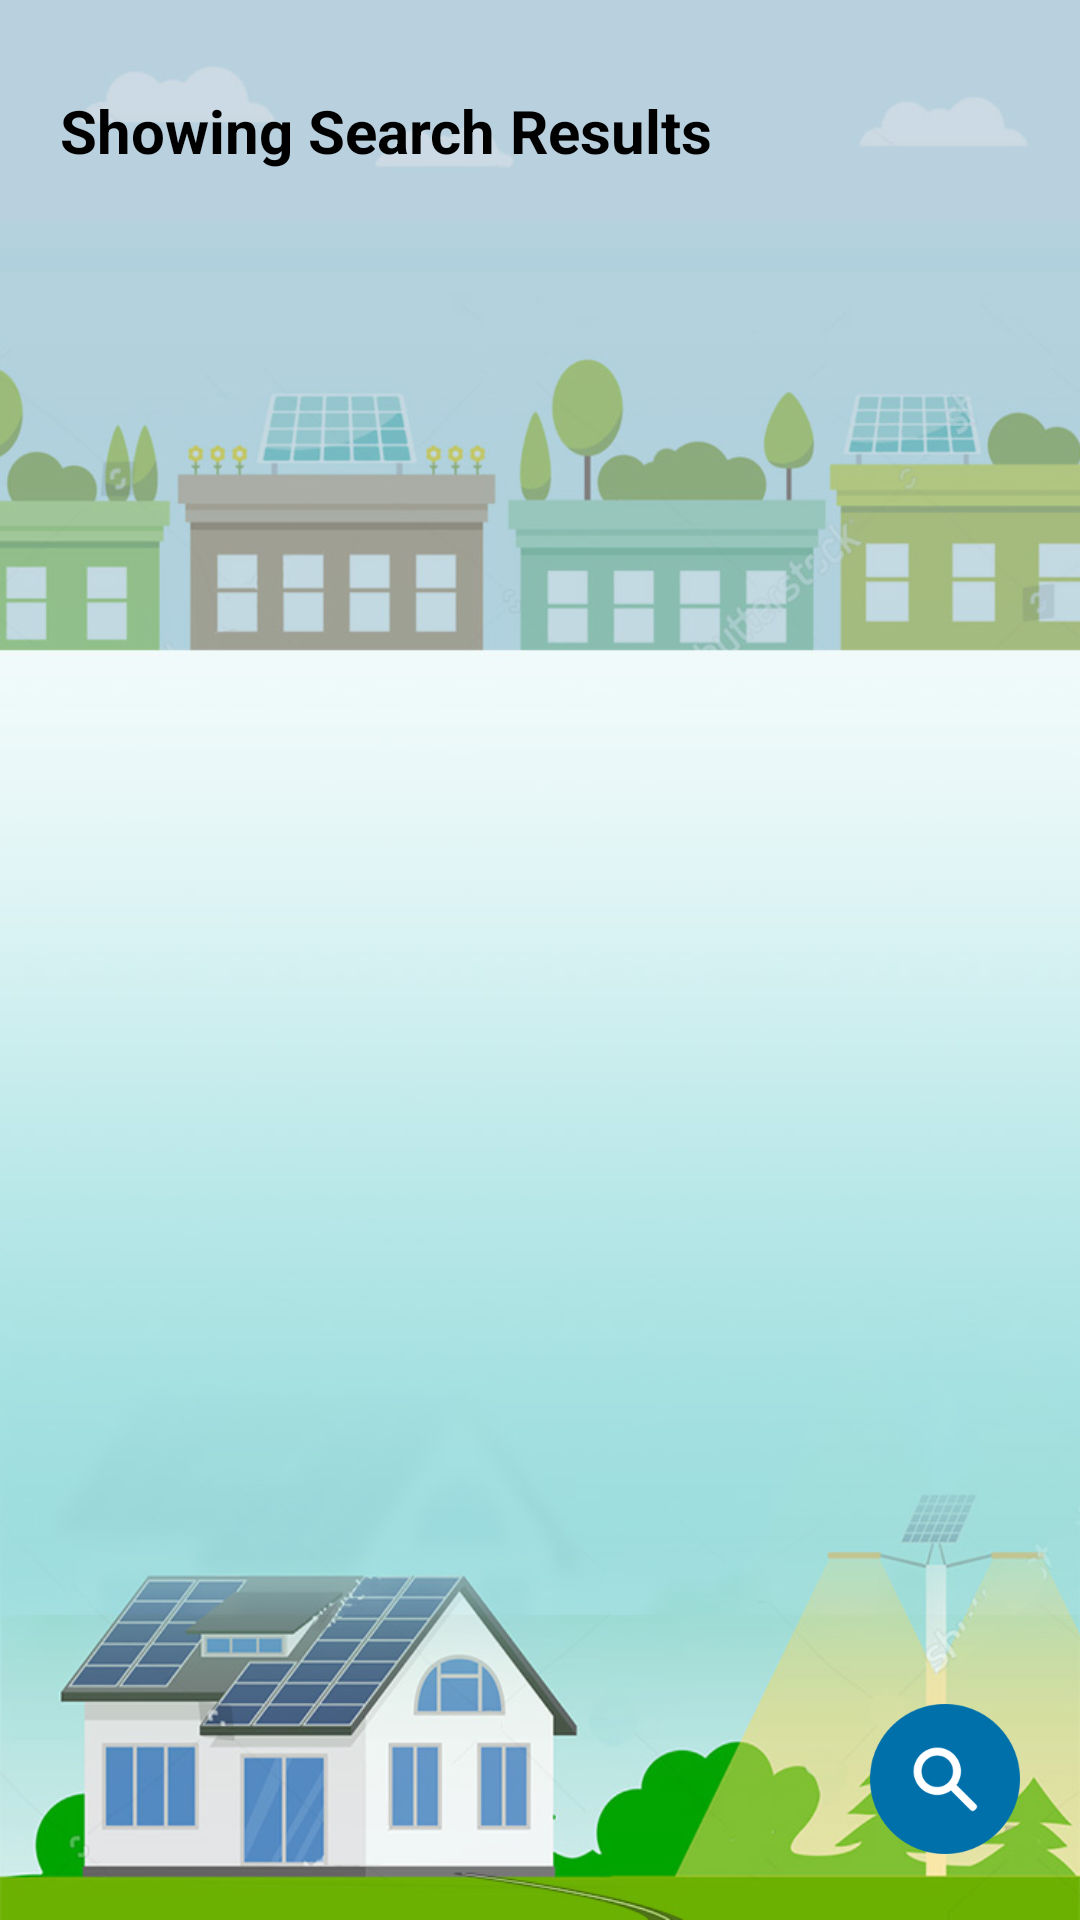

Where to tap for icons on this 1080px x 1920px app screen, as [x,y]:
floating search: [945,1779]
